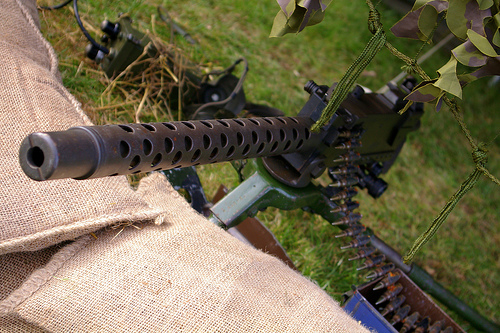rifle: (3, 68, 457, 306)
